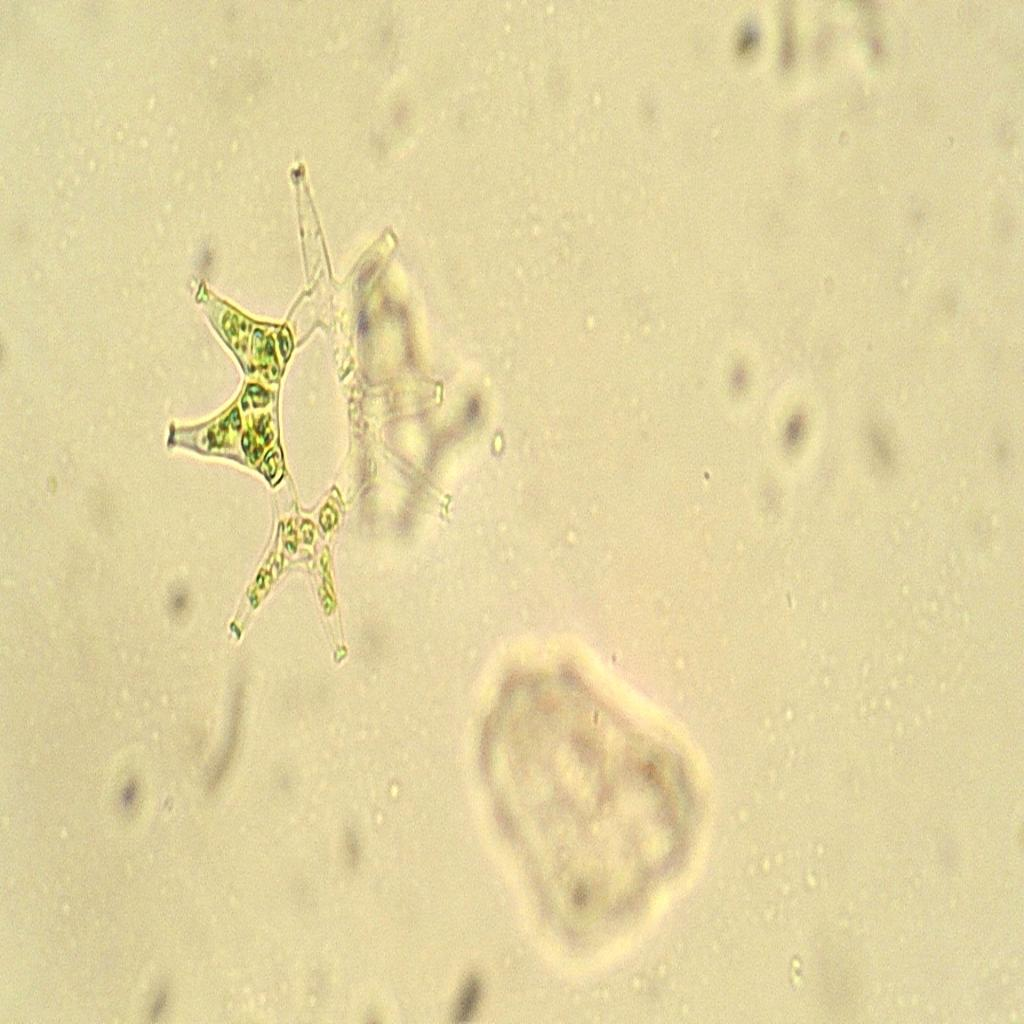Pediastrum_75TH: (157, 131, 461, 697)
